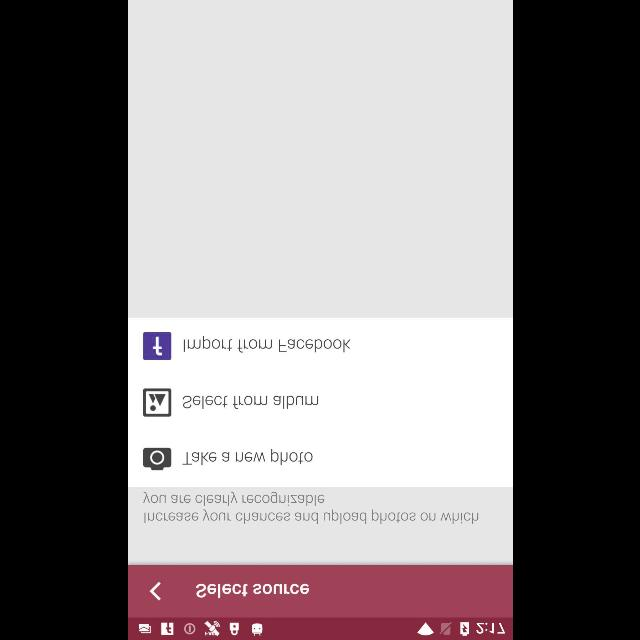icon: (142, 332, 172, 360), (142, 448, 172, 470), (148, 582, 160, 600)
image: (142, 389, 172, 417)
text: (142, 491, 478, 524), (182, 336, 350, 352), (182, 448, 312, 466), (182, 395, 318, 409), (195, 584, 308, 598)
toolbar: (128, 565, 512, 617)
uppertaskbar: (128, 617, 512, 639)
